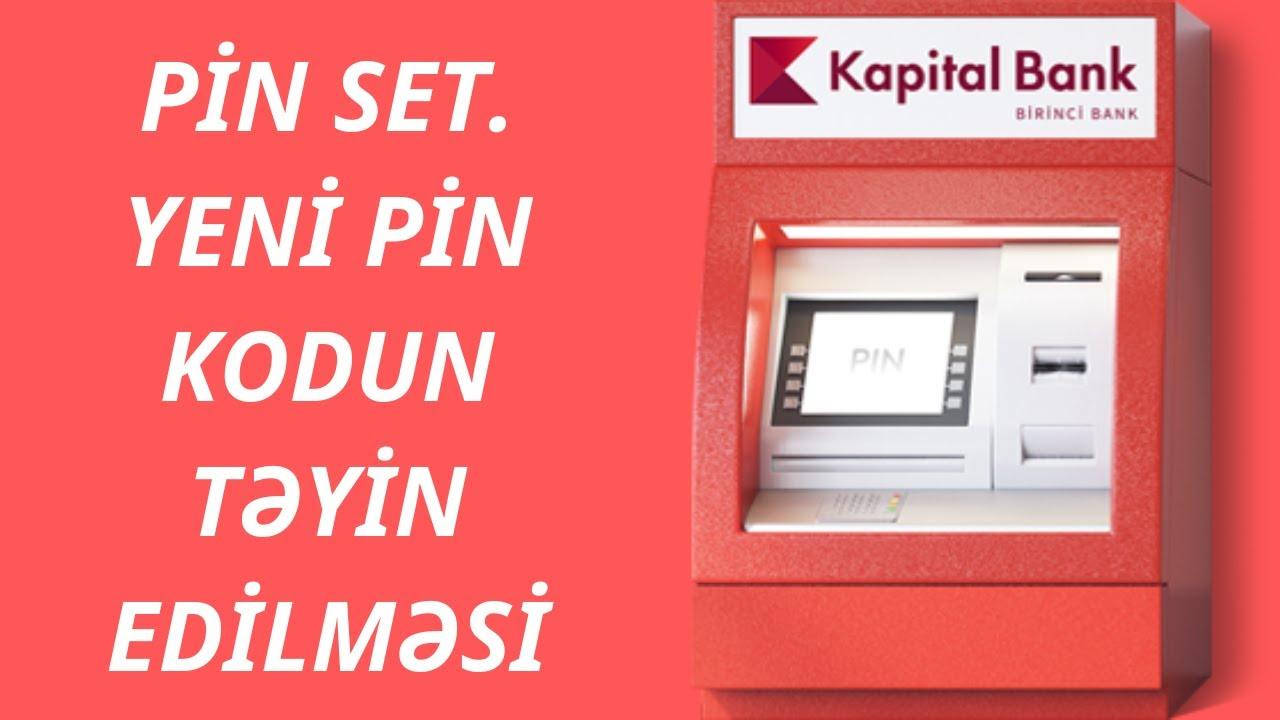Kapital Bank: (745, 33, 821, 108)
